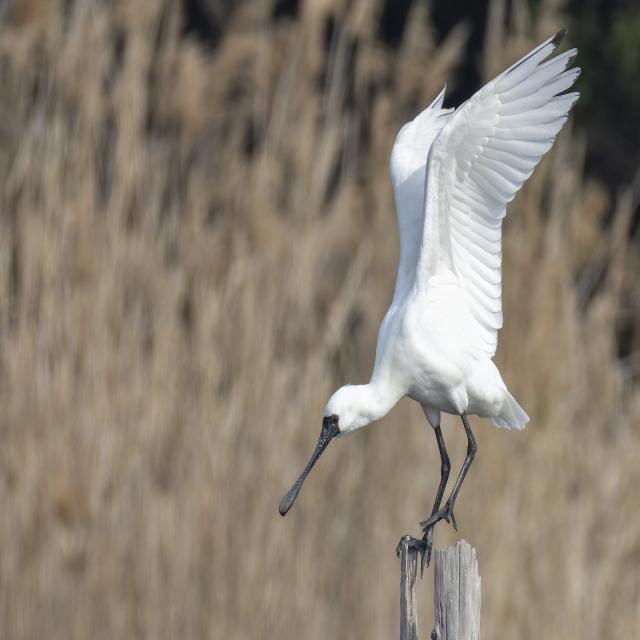Black-faced spoonbill: (280, 30, 579, 571)
